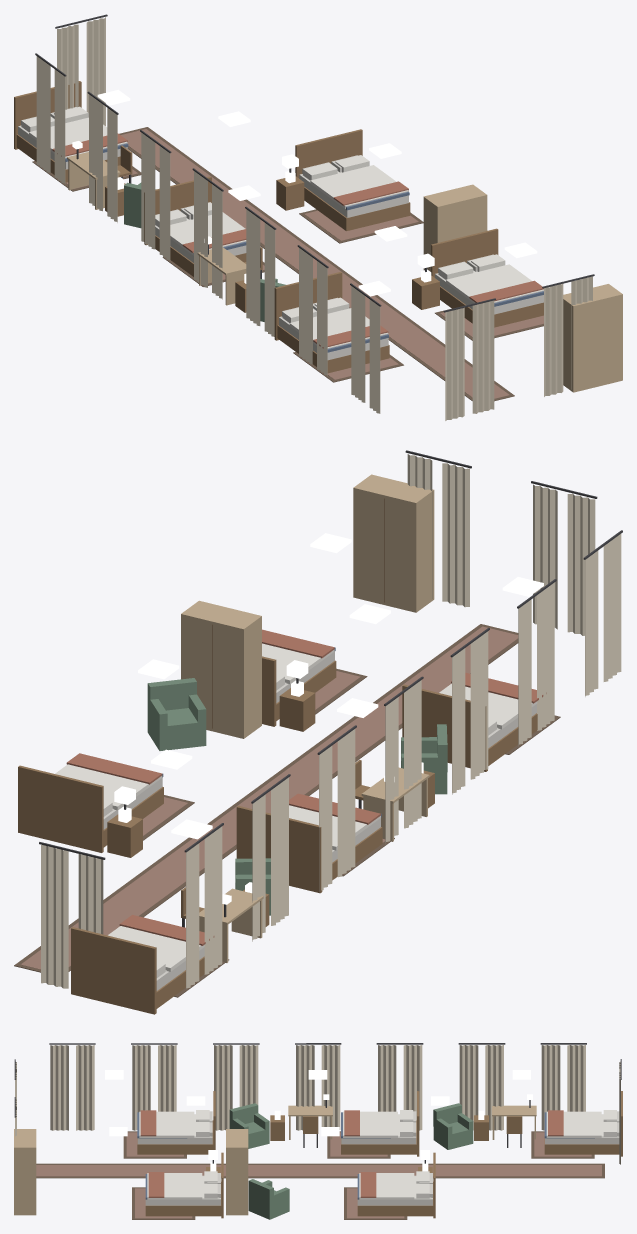
File: fine-s3.glb
The picture shows the model from 3 angles, top to bottom: view 1: azimuth 30°, elevation 25°; view 2: azimuth 150°, elevation 25°; view 3: azimuth 270°, elevation 25°; orthographic projection. The views are drawn at different scales.
Parts seen in each view (by area): view 1: soft-s3, dresser.005, bed-frame.010, bed-frame.011, dresser.004, bed-frame.014, bed-frame.012, bed-frame.013, writing-desk.005, writing-desk.004, nightstand.004, nightstand.005 (+1 smaller); view 2: soft-s3, dresser.005, dresser.004, bed-frame.010, bed-frame.012, bed-frame.013, lounge-chair.006, bed-frame.014, bed-frame.011, writing-desk.004, writing-desk.005, nightstand.005 (+3 smaller); view 3: soft-s3, dresser.004, dresser.005, bed-frame.010, bed-frame.011, bed-frame.013, bed-frame.014, bed-frame.012, lounge-chair.007, lounge-chair.006, lounge-chair.008, writing-desk.004 (+5 smaller).
Part boxes in pixels (<box>): soft-s3: <box>21,14,594,420</box>; dresser.005: <box>563,284,622,392</box>; bed-frame.010: <box>295,129,410,231</box>; bed-frame.011: <box>431,228,543,327</box>; dresser.004: <box>423,184,487,271</box>; bed-frame.014: <box>274,272,389,373</box>; bed-frame.012: <box>14,81,128,182</box>; bed-frame.013: <box>144,176,246,276</box>; writing-desk.005: <box>197,236,246,305</box>; writing-desk.004: <box>67,141,120,209</box>; nightstand.004: <box>276,170,304,210</box>; nightstand.005: <box>412,269,439,309</box>; soft-s3: <box>14,450,622,997</box>; dresser.005: <box>353,474,434,612</box>; dresser.004: <box>181,600,261,738</box>; bed-frame.010: <box>18,765,163,852</box>; bed-frame.012: <box>71,927,204,1014</box>; bed-frame.013: <box>236,806,382,893</box>; lounge-chair.006: <box>147,678,206,750</box>; bed-frame.014: <box>402,684,537,771</box>; bed-frame.011: <box>262,647,336,726</box>; writing-desk.004: <box>199,888,263,962</box>; writing-desk.005: <box>361,767,429,841</box>; nightstand.005: <box>279,680,315,731</box>; soft-s3: <box>14,1043,621,1219</box>; dresser.004: <box>226,1129,248,1215</box>; dresser.005: <box>14,1129,36,1215</box>; bed-frame.010: <box>357,1152,435,1218</box>; bed-frame.011: <box>145,1152,223,1218</box>; bed-frame.013: <box>341,1091,419,1156</box>; bed-frame.014: <box>137,1091,215,1154</box>; bed-frame.012: <box>544,1091,622,1156</box>; lounge-chair.007: <box>433,1103,473,1149</box>; lounge-chair.006: <box>248,1179,289,1219</box>; lounge-chair.008: <box>229,1103,269,1148</box>; writing-desk.004: <box>492,1094,536,1139</box>.
Bounding box in the file's own units: 5.66 × 2.61 × 16.36.
